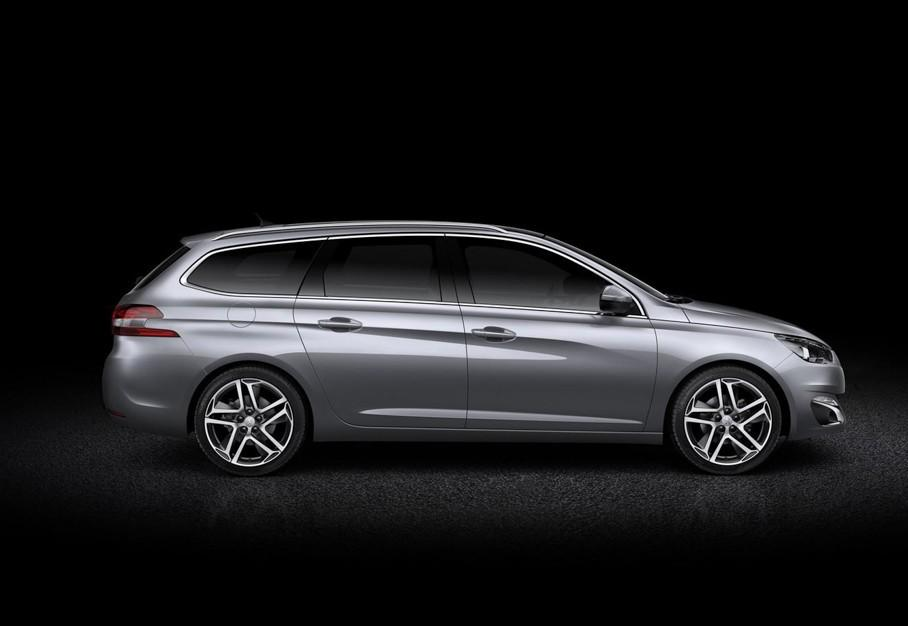Wagon: (101, 218, 848, 479)
